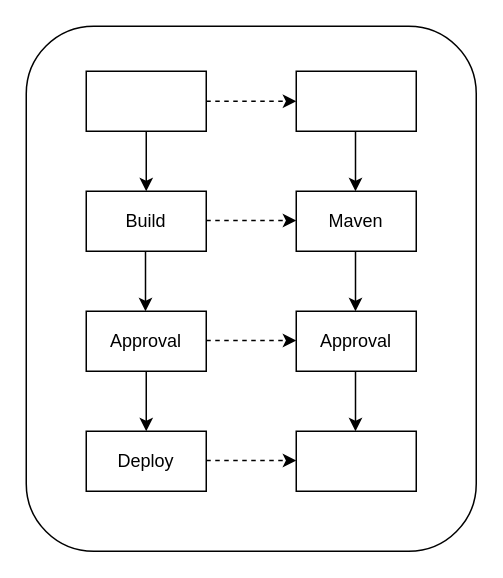
This 503x578 diagram has some shape labels left out. The centre of each missing label's shape, as x and y in pixels:
Github: (355,100)
Lambda + APIGateway: (355,460)
Source: (145,100)
